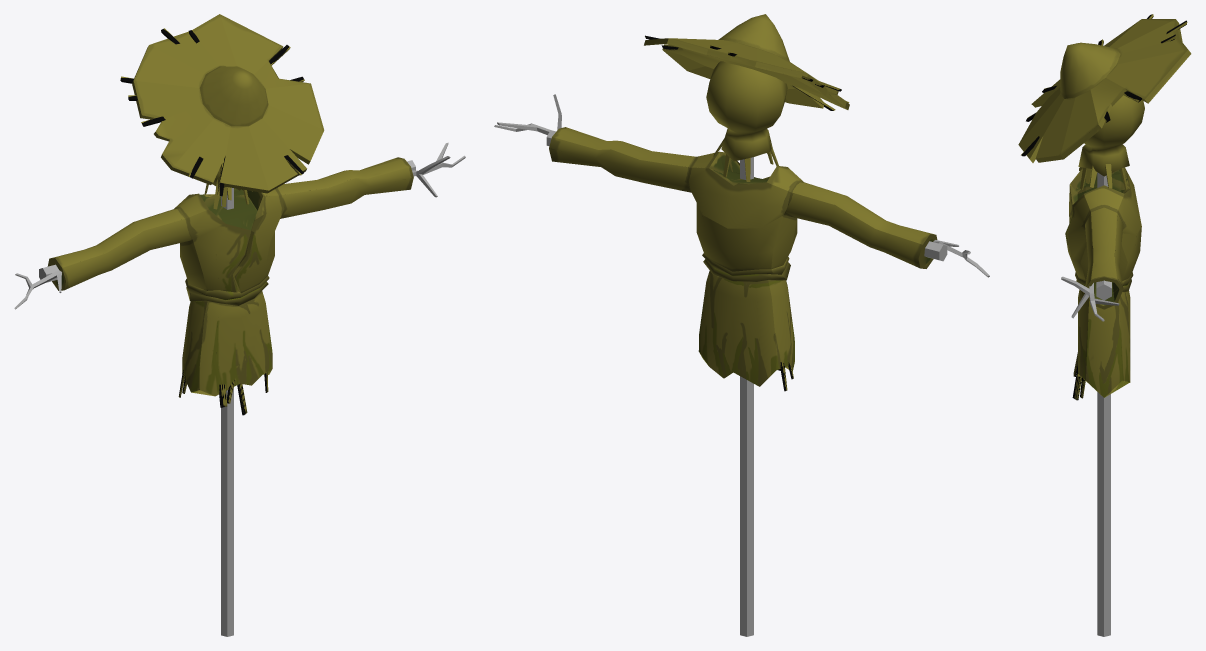
The model's file is scarecrow-normal.fbx.
3 views of the same model, side by side, from view 1: azimuth 30°, elevation 25°; view 2: azimuth 150°, elevation 25°; view 3: azimuth 270°, elevation 25° (orthographic). The views are drawn at different scales.
Parts seen in each view (by area): view 1: pCube83, pCylinder18, pCylinder13; view 2: pCube83, pCylinder18, pSphere7, pCylinder13; view 3: pCube83, pCylinder18, pCylinder13, pSphere7, pCube85, pCylinder14.
Boxes of the visible parts, left/top/right/bottom form: pCube83: left=47, top=157, right=413, bottom=396; pCylinder18: left=132, top=14, right=324, bottom=193; pCylinder13: left=221, top=188, right=233, bottom=636; pCube83: left=549, top=127, right=937, bottom=386; pCylinder18: left=644, top=14, right=849, bottom=109; pSphere7: left=706, top=61, right=787, bottom=161; pCylinder13: left=740, top=157, right=753, bottom=636; pCube83: left=1065, top=168, right=1141, bottom=397; pCylinder18: left=1018, top=19, right=1191, bottom=162; pCylinder13: left=1097, top=172, right=1110, bottom=636; pSphere7: left=1078, top=95, right=1144, bottom=176; pCube85: left=1061, top=276, right=1119, bottom=321; pCylinder14: left=1096, top=280, right=1111, bottom=300.
Size of the model in its own units: 9.12 by 11.07 by 2.89.
4 materials, 3 textured.
